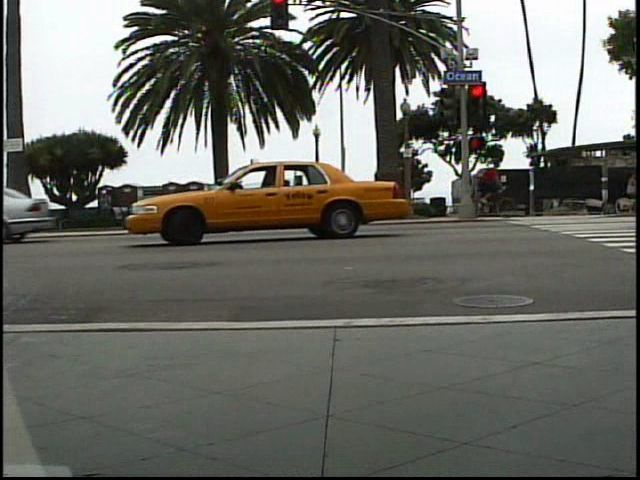person: (473, 157, 503, 212)
